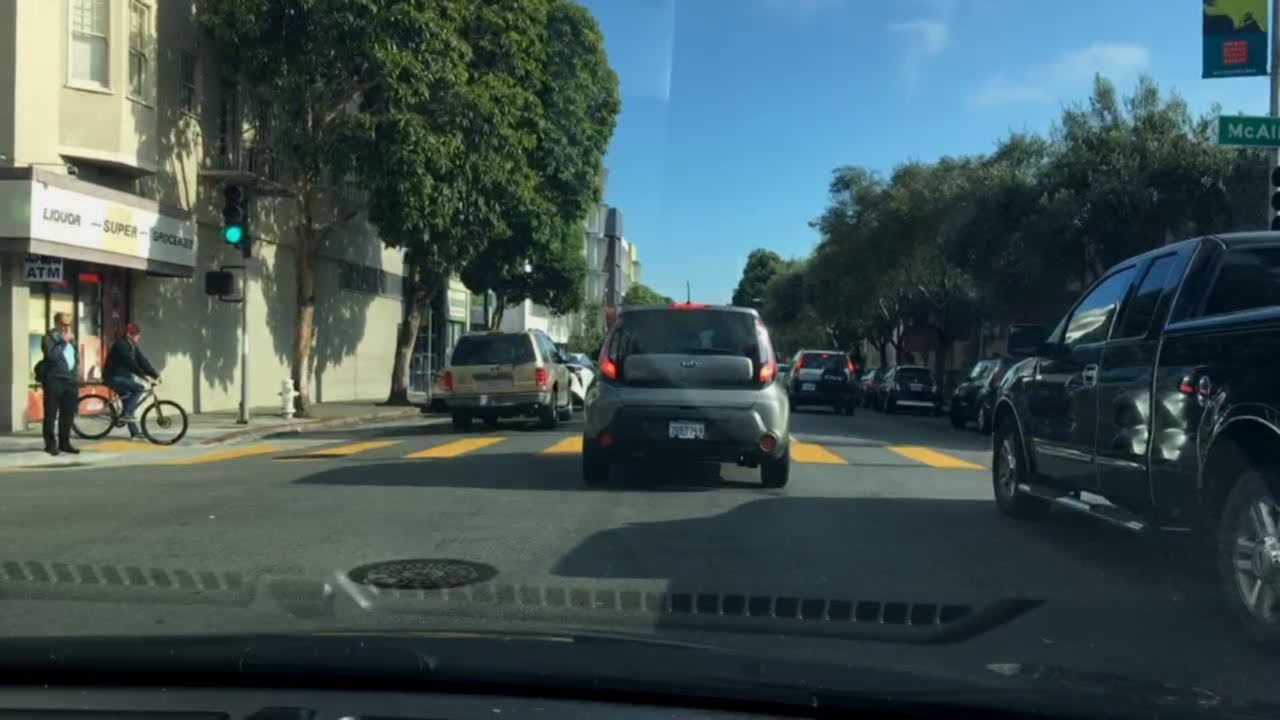kia: (676, 353, 702, 373)
